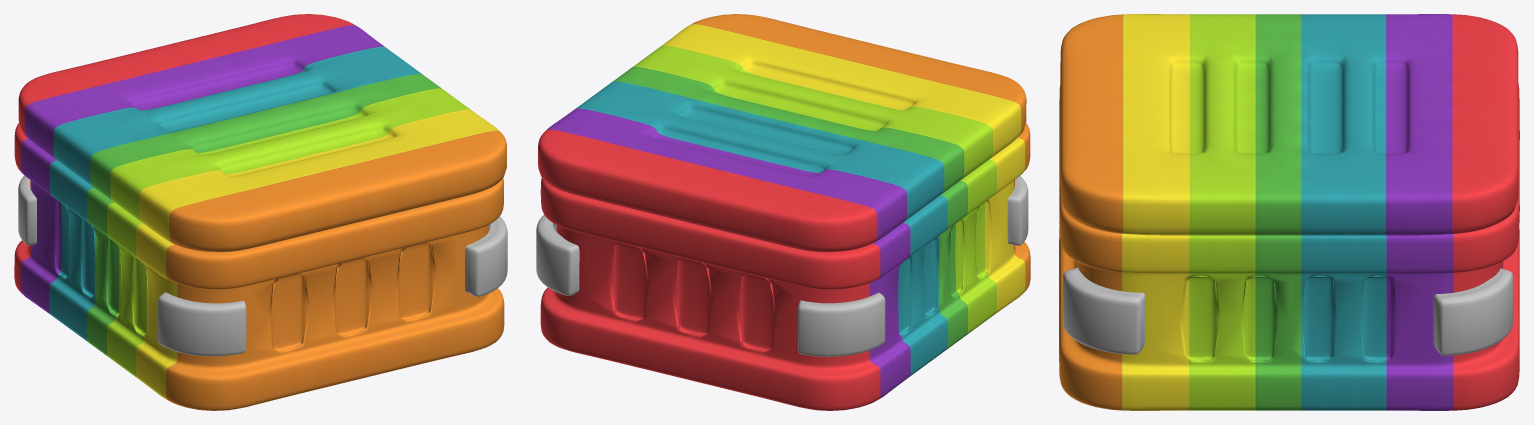
File: Rainbow_box_S.fbx
The picture shows the model from 3 angles, left to right: view 1: azimuth 30°, elevation 25°; view 2: azimuth 150°, elevation 25°; view 3: azimuth 270°, elevation 25°; orthographic projection. The views are drawn at different scales.
Parts seen in each view (by area): view 1: Rainbow_box_4x4_lid, Rainbow_box_4x4; view 2: Rainbow_box_4x4_lid, Rainbow_box_4x4; view 3: Rainbow_box_4x4_lid, Rainbow_box_4x4.
Boxes of the visible parts, bbox=[...] form: Rainbow_box_4x4_lid: bbox=[18, 14, 506, 252]; Rainbow_box_4x4: bbox=[14, 123, 507, 410]; Rainbow_box_4x4_lid: bbox=[538, 14, 1026, 252]; Rainbow_box_4x4: bbox=[536, 123, 1030, 410]; Rainbow_box_4x4_lid: bbox=[1060, 14, 1518, 235]; Rainbow_box_4x4: bbox=[1059, 83, 1519, 410].
Size of the model in its own units: 5.26 by 2.81 by 5.34.
Materials: 1 (1 with a texture image).
